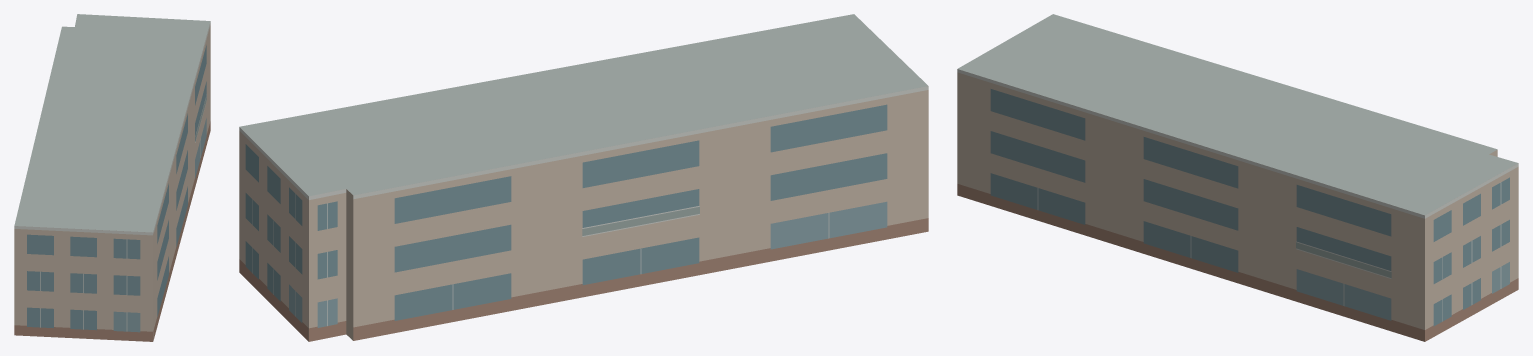
File: survey-upis-32887070.glb
3 renders of one model, left to right at view 1: azimuth 30°, elevation 25°; view 2: azimuth 150°, elevation 25°; view 3: azimuth 270°, elevation 25°, orthographic. The views are drawn at different scales.
Visible parts, largest first — view 1: survey-upis-32887070.tmp; view 2: survey-upis-32887070.tmp; view 3: survey-upis-32887070.tmp.
Part boxes in pixels (x1,y1,x2,y2): survey-upis-32887070.tmp: [14, 14, 210, 341]; survey-upis-32887070.tmp: [239, 14, 928, 341]; survey-upis-32887070.tmp: [957, 14, 1518, 341].
Size of the model in its own units: 31.26 by 9.15 by 36.82.
